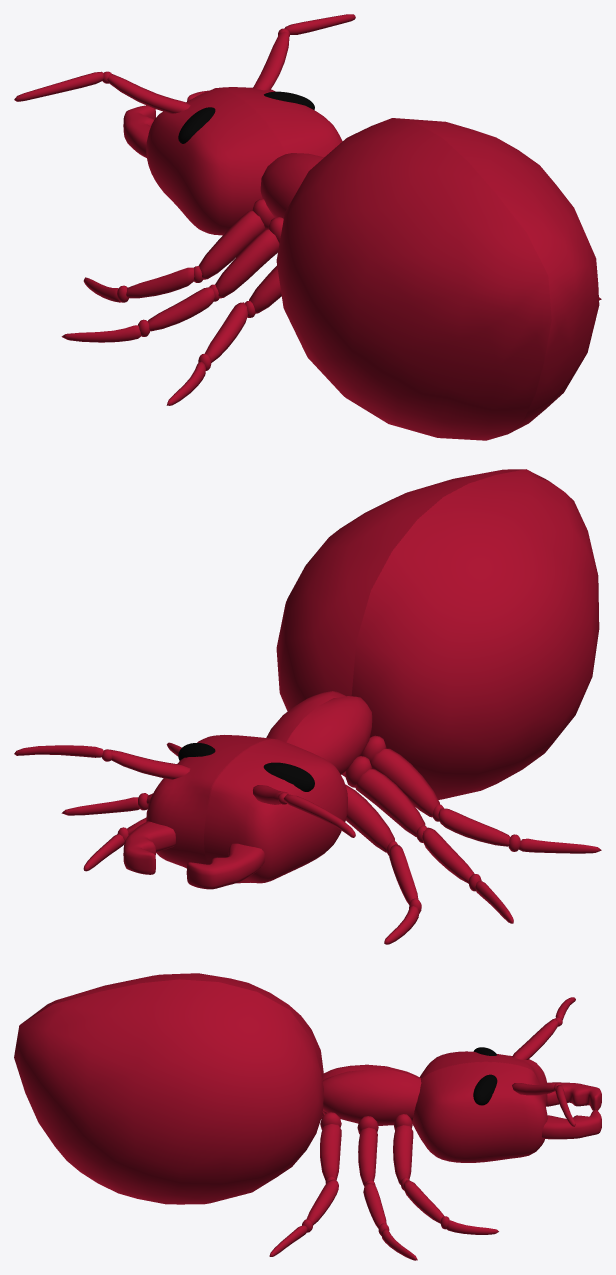
File: reine rouge.fbx
3 views of the same model, one above another, from view 1: azimuth 30°, elevation 25°; view 2: azimuth 150°, elevation 25°; view 3: azimuth 270°, elevation 25° (orthographic). The views are drawn at different scales.
Parts seen in each view (by area): view 1: Reine rouge; view 2: Reine rouge; view 3: Reine rouge.
Part boxes in pixels (x1,y1,x2,y2): Reine rouge: (14,14,601,440); Reine rouge: (14,469,601,944); Reine rouge: (14,973,601,1260).
Bounding box in the file's own units: 3.31 × 2 × 4.88.
